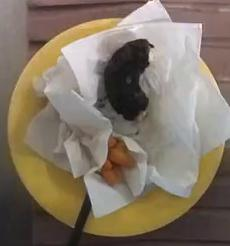dessert: (104, 39, 154, 120)
fruit: (100, 136, 133, 184)
